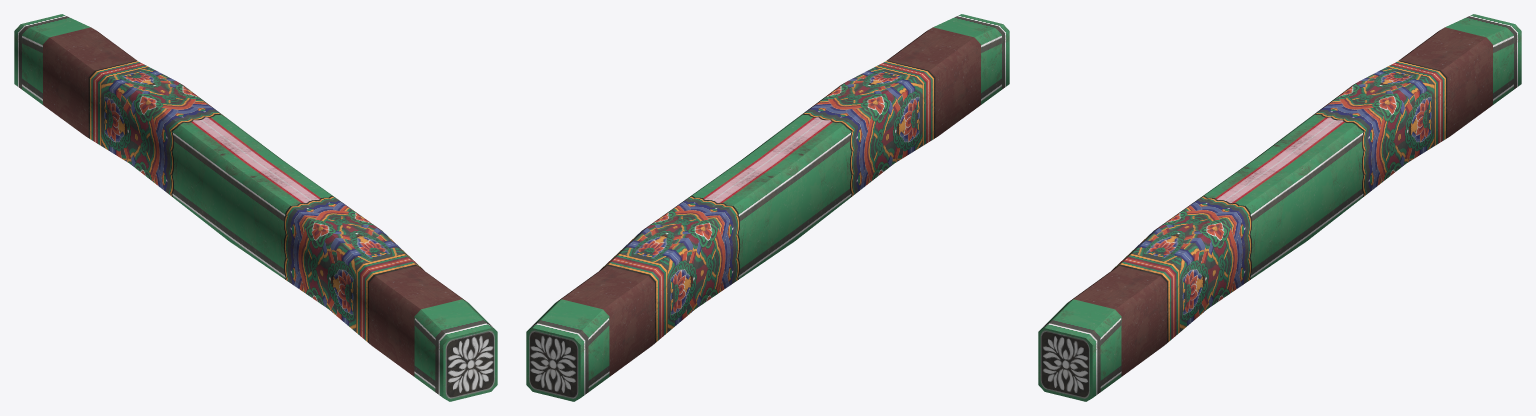
File: SM_Daedeulbo01f.fbx
The picture shows the model from 3 angles, left to right: view 1: azimuth 30°, elevation 25°; view 2: azimuth 150°, elevation 25°; view 3: azimuth 330°, elevation 25°; orthographic projection.
Parts seen in each view (by area): view 1: SM_Daedeulbo01f; view 2: SM_Daedeulbo01f; view 3: SM_Daedeulbo01f.
Boxes of the visible parts, x1,y1,x2,y2 form: SM_Daedeulbo01f: (14, 14, 497, 401); SM_Daedeulbo01f: (526, 14, 1009, 401); SM_Daedeulbo01f: (1038, 14, 1521, 401).
Size of the model in its own units: 26.88 by 367 by 38.08.
1 material, 1 textured.
